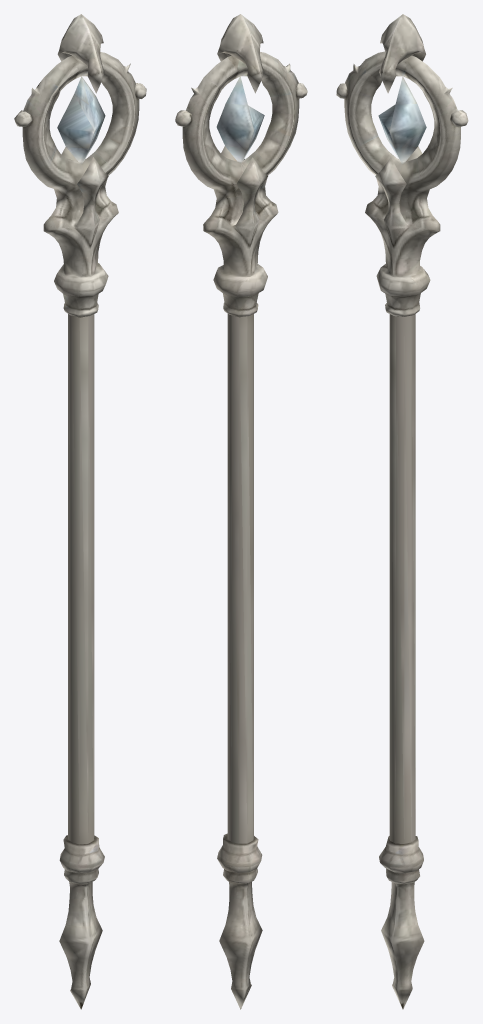
File: prop_staff.glb
3 views of the same model, side by side, from view 1: azimuth 30°, elevation 25°; view 2: azimuth 210°, elevation 25°; view 3: azimuth 330°, elevation 25° (orthographic).
Size of the model in its own units: 0.1314 by 0.9507 by 0.0732.
1 material, 1 textured.
